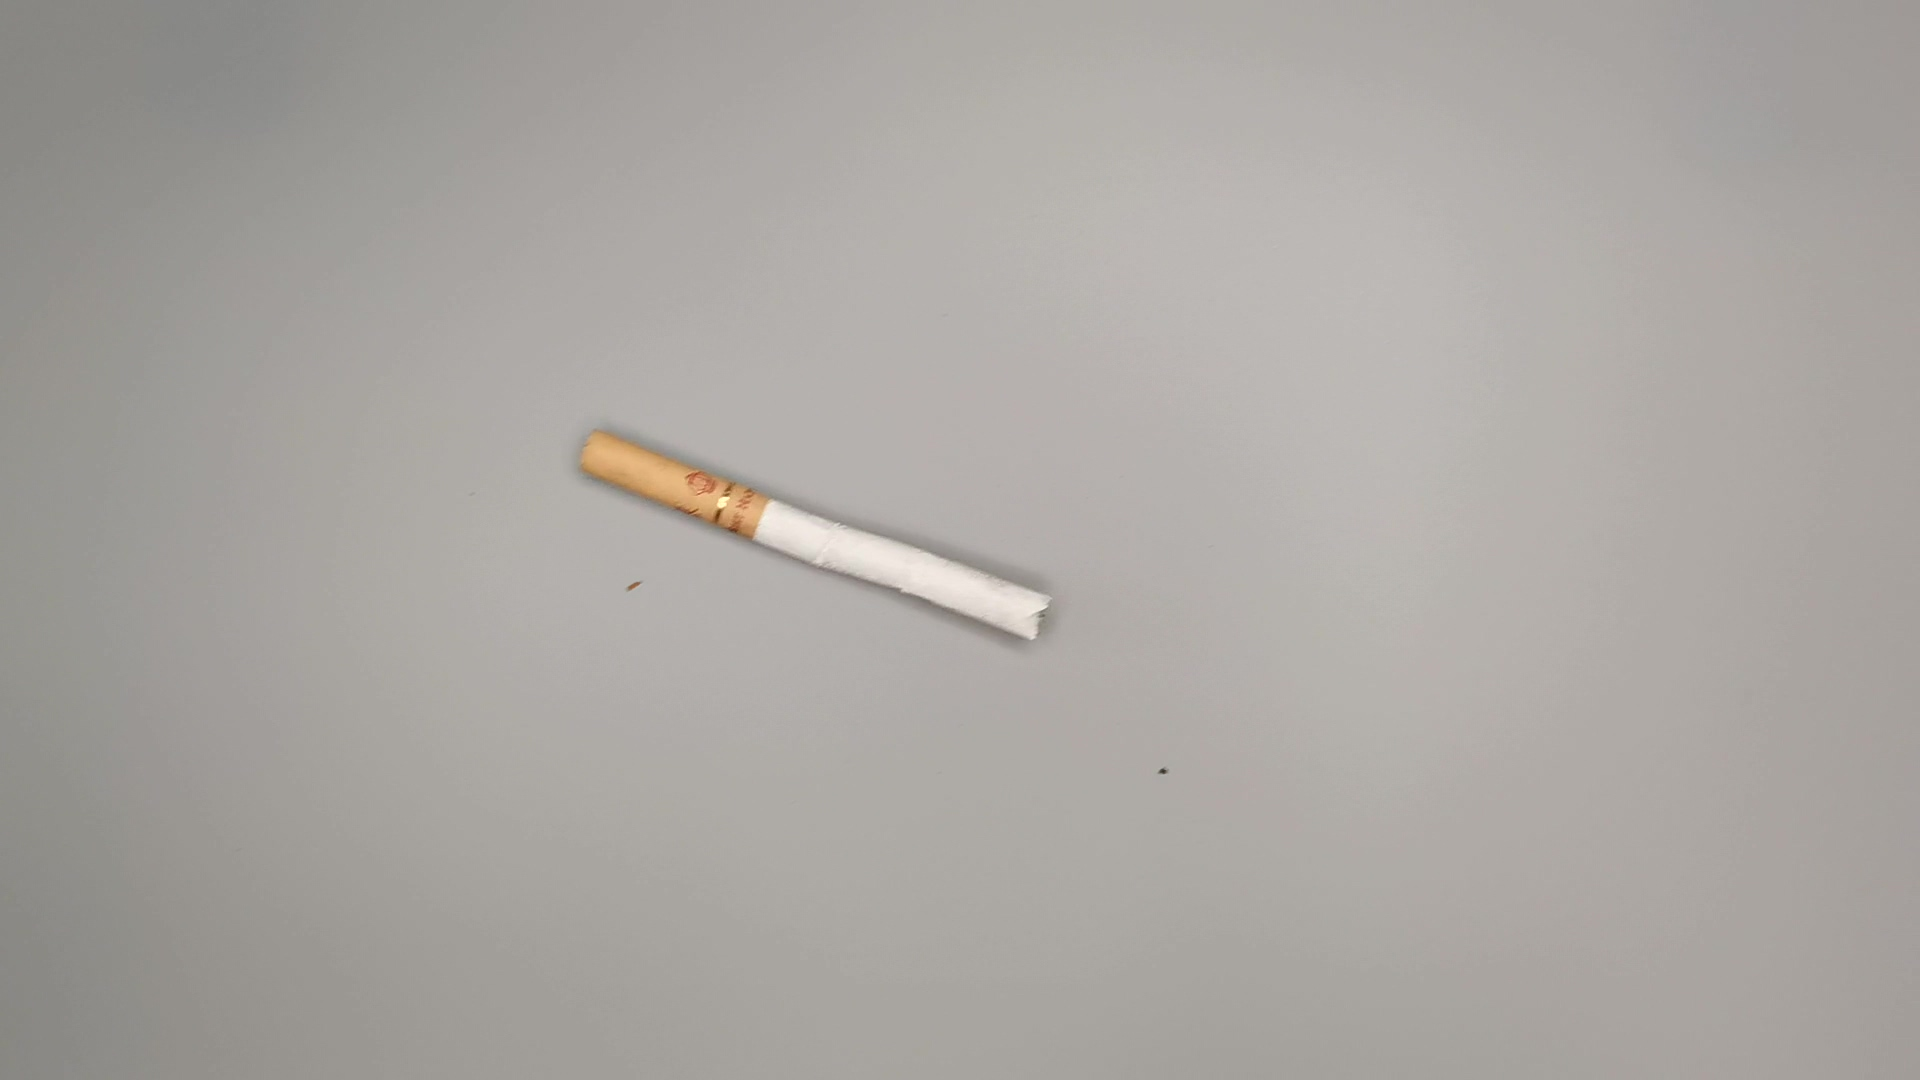cigarette: (582, 430, 1065, 649)
